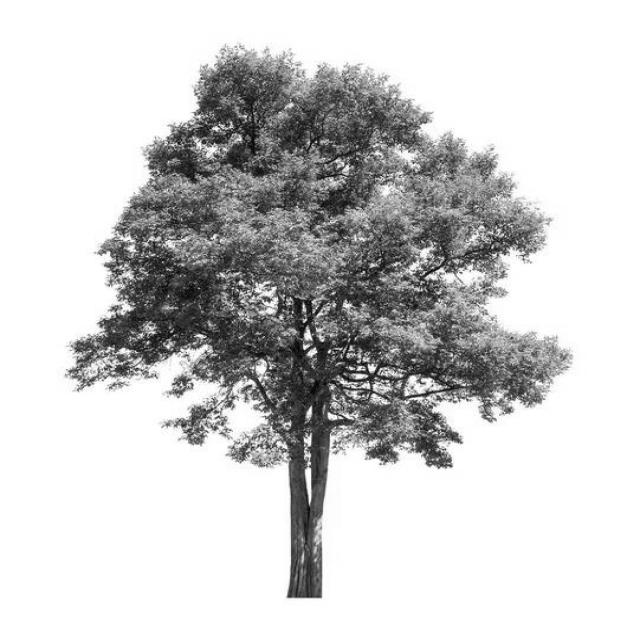Tree: (70, 47, 570, 599)
